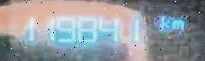1: (127, 16, 142, 45), (44, 14, 54, 43), (25, 13, 35, 39)
4: (95, 14, 120, 42)
8: (75, 14, 95, 42)
9: (55, 13, 75, 43)
X: (157, 13, 170, 29), (170, 17, 182, 28)
